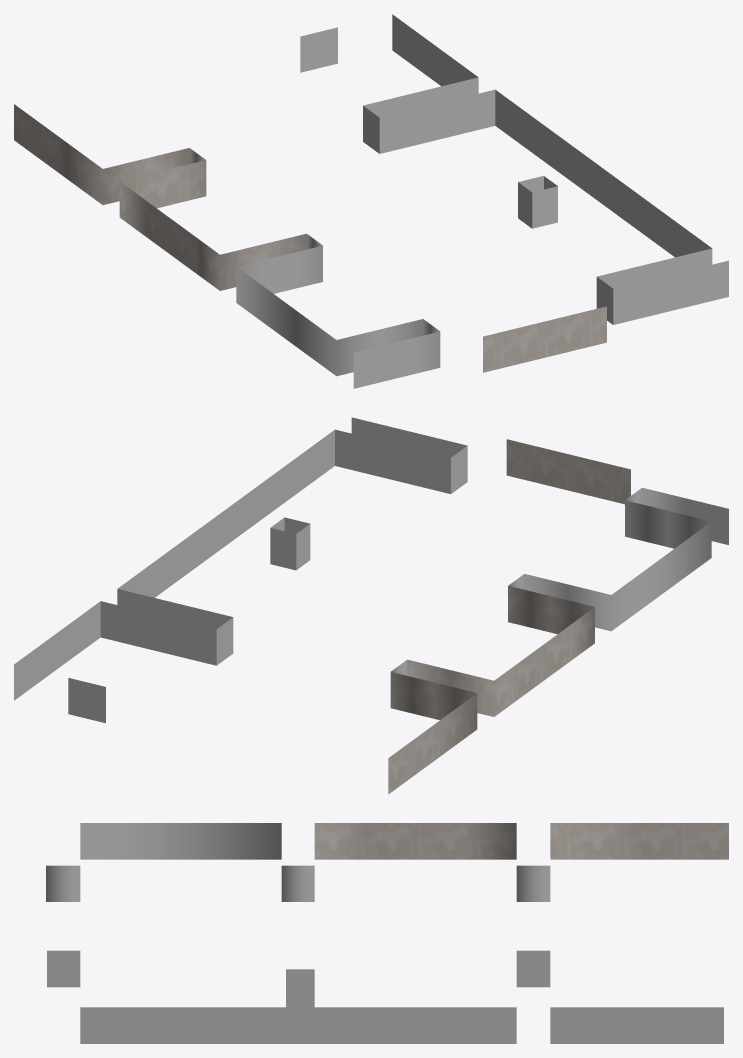
The model's file is wall.gltf.
3 views of the same model, one above another, from view 1: azimuth 30°, elevation 25°; view 2: azimuth 150°, elevation 25°; view 3: azimuth 270°, elevation 25° (orthographic).
Parts seen in each view (by area): view 1: Plane.004, Plane.001, Plane.002; view 2: Plane.004, Plane.001, Plane.002; view 3: Plane.004, Plane.001.
Part boxes in pixels (x1=…): Plane.004: x1=300, y1=14, x2=728, y2=324; Plane.001: x1=14, y1=104, x2=440, y2=388; Plane.002: x1=483, y1=306, x2=606, y2=372; Plane.004: x1=14, y1=417, x2=467, y2=723; Plane.001: x1=388, y1=487, x2=728, y2=794; Plane.002: x1=506, y1=439, x2=630, y2=504; Plane.004: x1=47, y1=950, x2=723, y2=1043; Plane.001: x1=46, y1=823, x2=728, y2=901.
Size of the model in its own units: 25.99 by 2.4 by 42.61.
